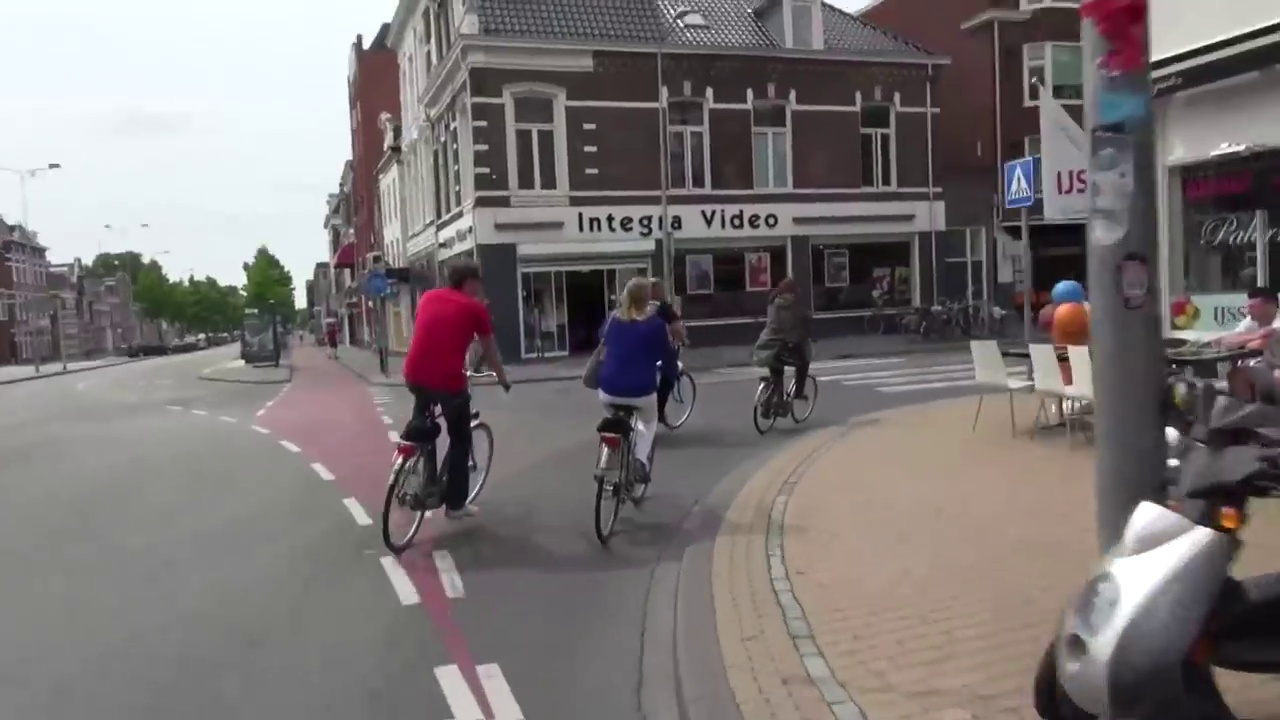cyclist_back: (379, 237, 495, 571), (576, 264, 664, 543), (748, 271, 821, 434)
